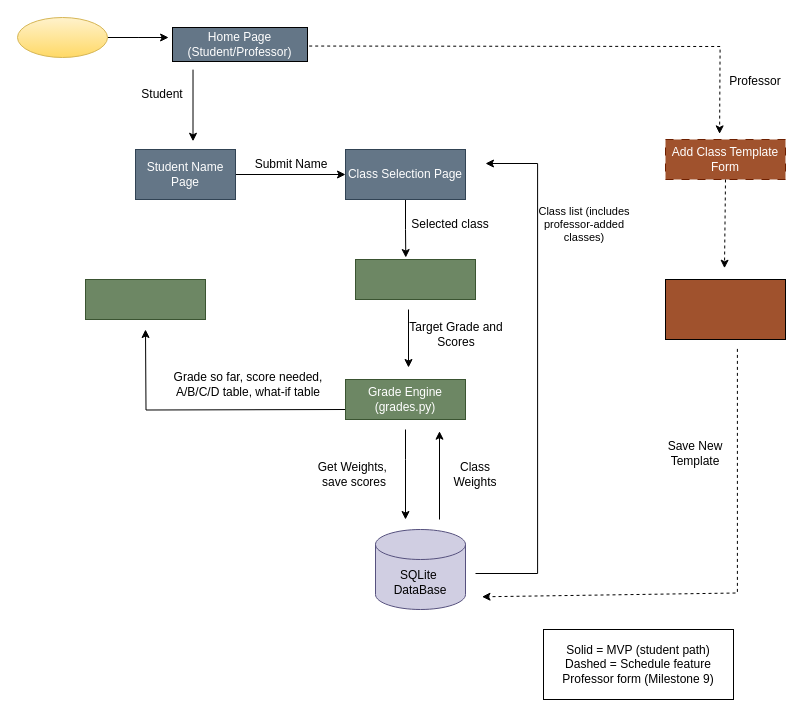
This 803x717 diagram has some shape labels left out. The centre of each missing label's shape, as x and y in pixels:
add_class (classes.py): checks weights total 100 and no duplicates: point (725, 309)
Plan Ahead / Enter Scores Pages: point (415, 279)
Results Page: point (145, 299)
Start: point (62, 37)
